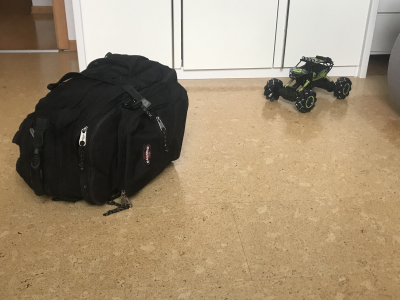remote control car: (262, 52, 353, 113)
